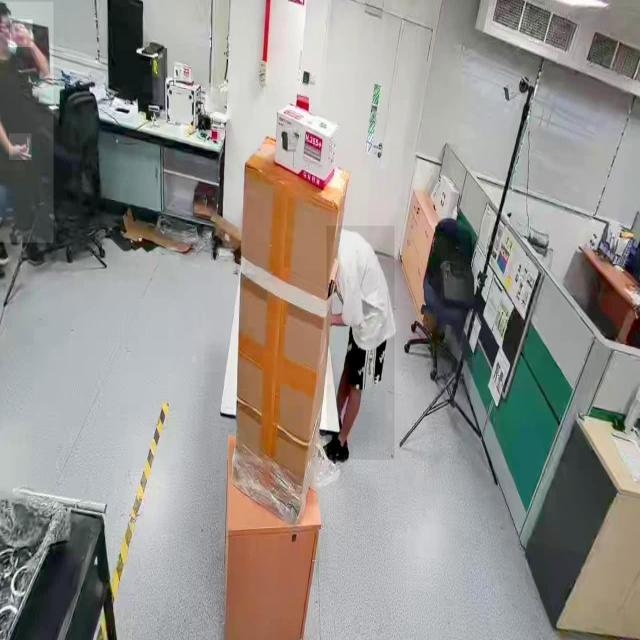hand_noglove: (9, 133, 32, 161), (10, 20, 33, 48)
person: (327, 226, 395, 460), (0, 2, 54, 244)
